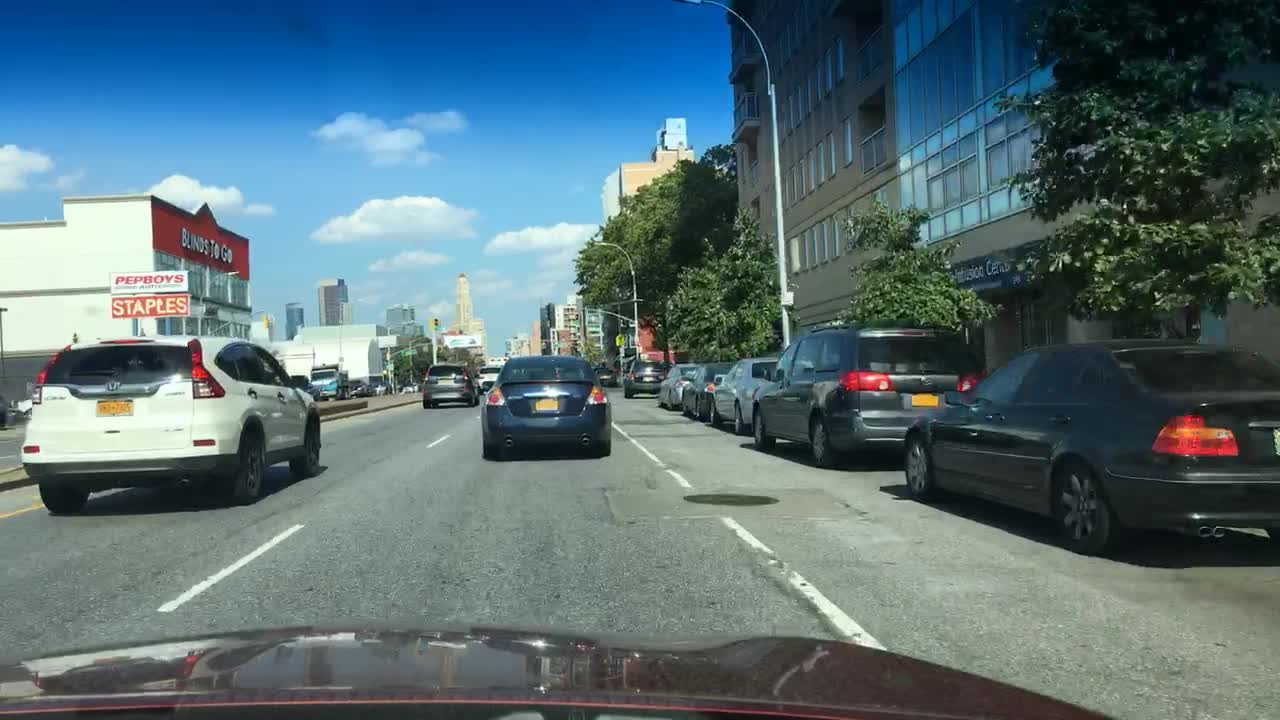car: (903, 336, 1277, 554), (19, 331, 320, 514), (749, 321, 986, 467), (476, 352, 611, 459), (707, 356, 775, 433), (679, 360, 733, 423), (424, 362, 477, 407), (657, 362, 696, 411), (621, 360, 668, 397), (310, 366, 346, 400), (474, 362, 505, 392), (346, 378, 370, 396), (0, 396, 12, 431), (594, 368, 617, 386), (372, 378, 394, 394), (400, 379, 418, 393)
traffic light: (262, 313, 270, 328), (433, 319, 439, 331)
traffic sign: (400, 348, 416, 357), (381, 356, 395, 363), (615, 334, 624, 344), (539, 338, 545, 350), (552, 342, 567, 346)
